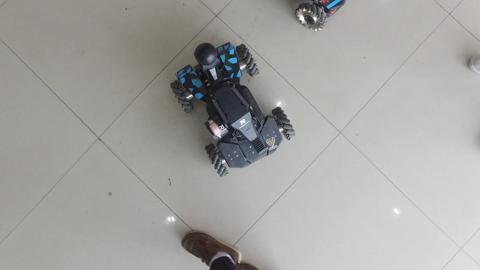chariot: (164, 40, 300, 180)
